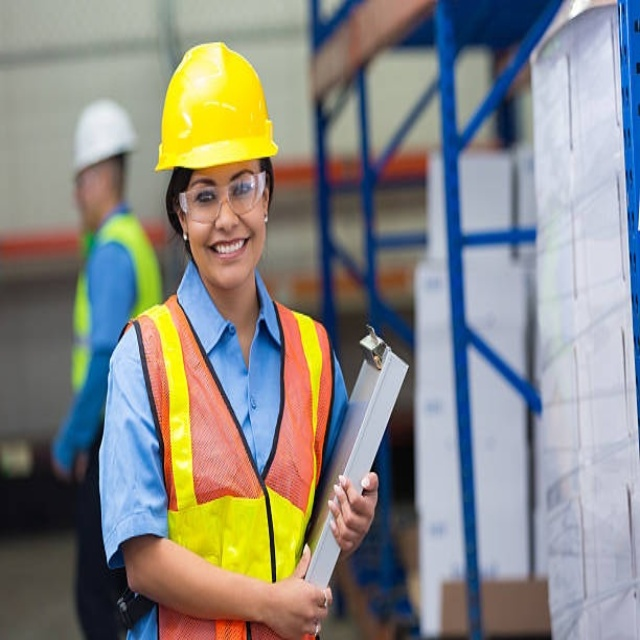Gafas: (179, 165, 267, 221)
Sin_guantes: (264, 545, 333, 640), (327, 468, 379, 555)
Sin_mascara: (202, 229, 253, 279)
